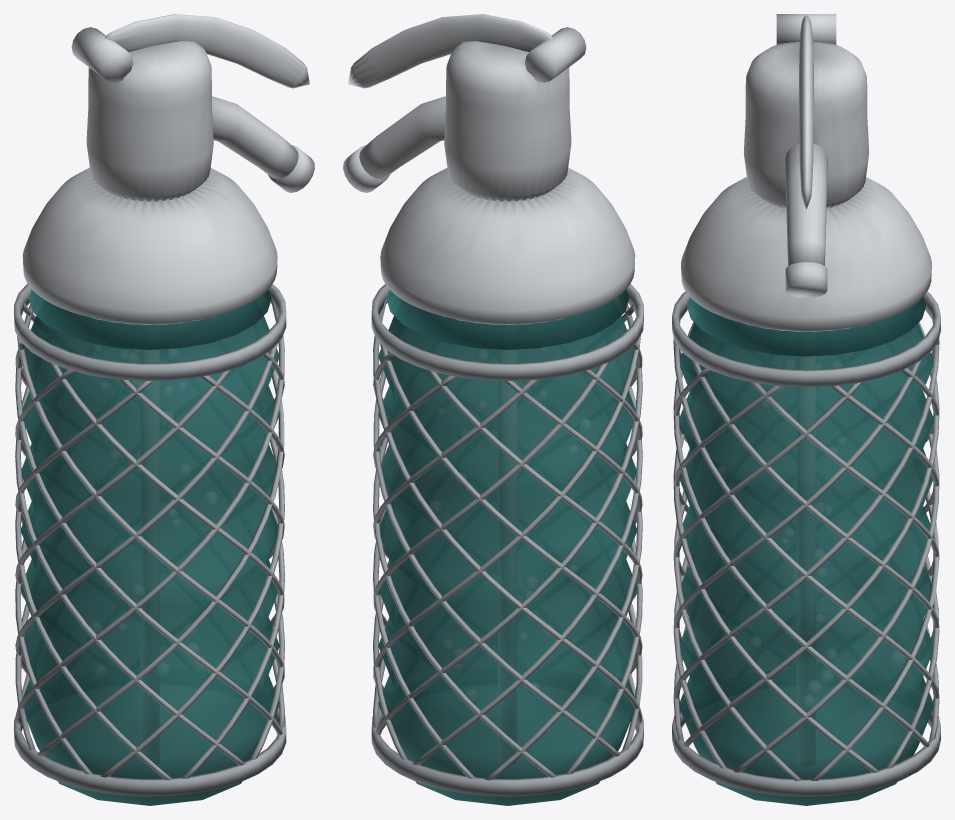
Rendered from prop_sifon.glb.
3 views of the same model, side by side, from view 1: azimuth 30°, elevation 25°; view 2: azimuth 150°, elevation 25°; view 3: azimuth 270°, elevation 25° (orthographic).
Parts seen in each view (by area): view 1: prop_sifon; view 2: prop_sifon; view 3: prop_sifon.
Part boxes in pixels (box(x1,y1,x2,y2)): prop_sifon: box(14, 14, 314, 805); prop_sifon: box(343, 14, 643, 805); prop_sifon: box(672, 14, 940, 805).
Size of the model in its own units: 0.1168 by 0.305 by 0.0988.
